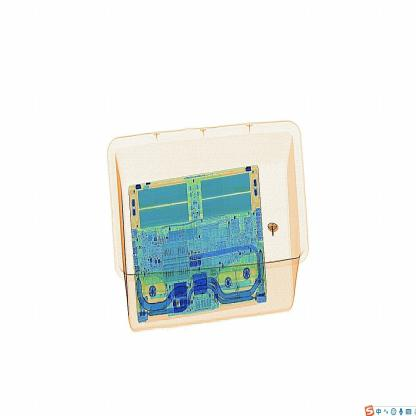wrench: (262, 215, 286, 247)
